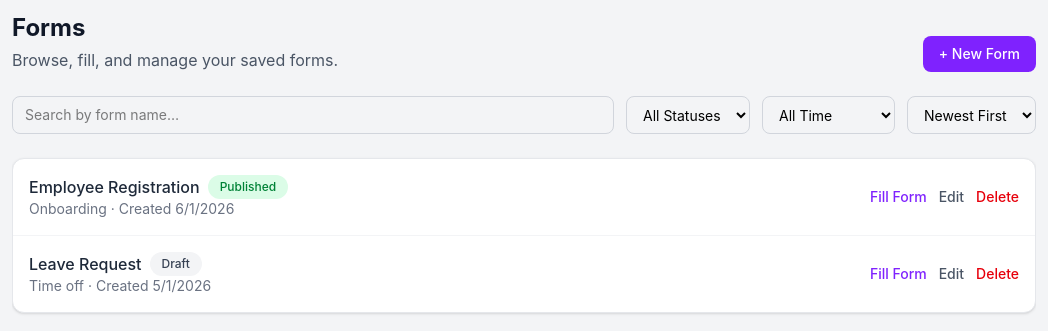
Test: Forms page (Admin) › filters by search term
Expected: the text "Employee Registration" is shown, [29,175,200,199]
In the field with placeholder "Search by form name…": (313, 115) [12,96,614,134], type "leave"
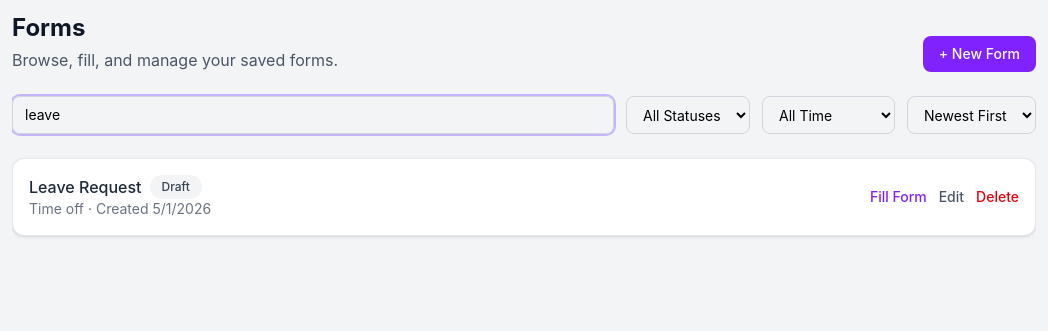
Expected: the text "Leave Request" is shown, [29,175,142,199]
Expected: the text "Employee Registration" is gone
